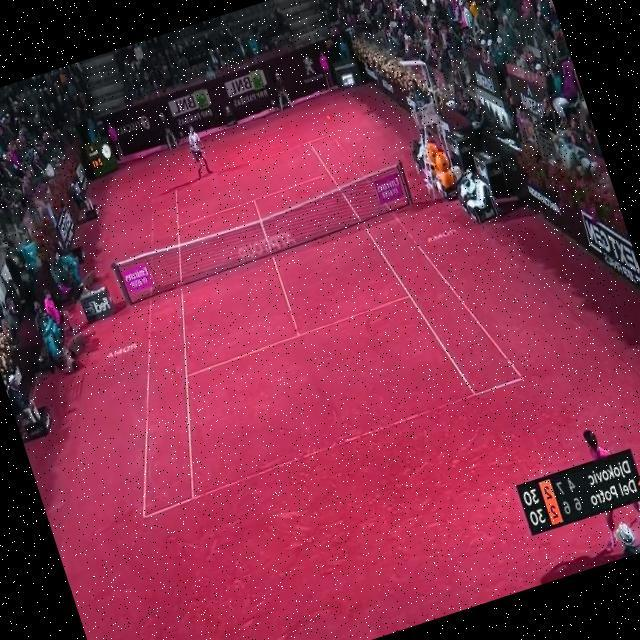court: (48, 100, 530, 520)
net: (107, 159, 420, 308)
player: (565, 412, 640, 563)
